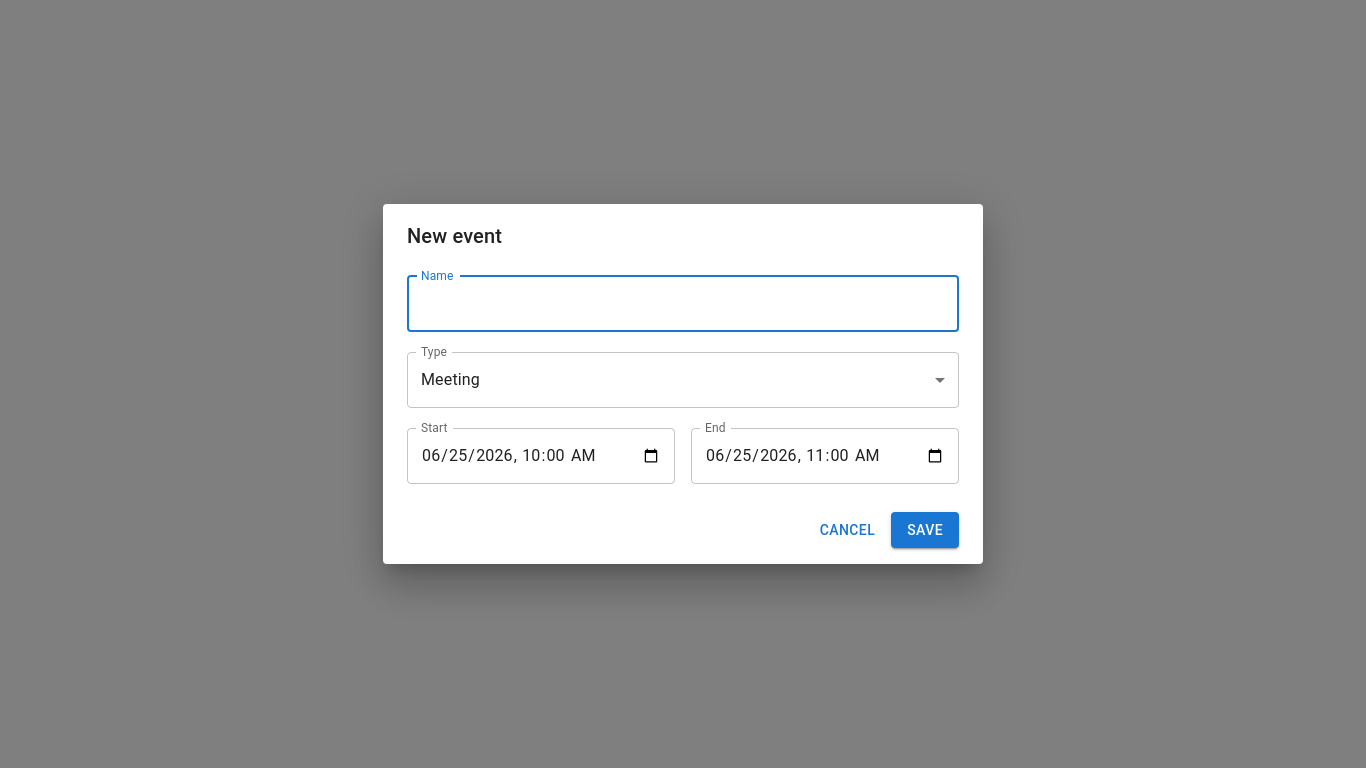
Test case: EventDialog › shows what is wrong instead of saving
Replace the text in the field labelled "End" with "2026-06-25T09:00" at coordinates (825, 456), box [691, 428, 959, 484]
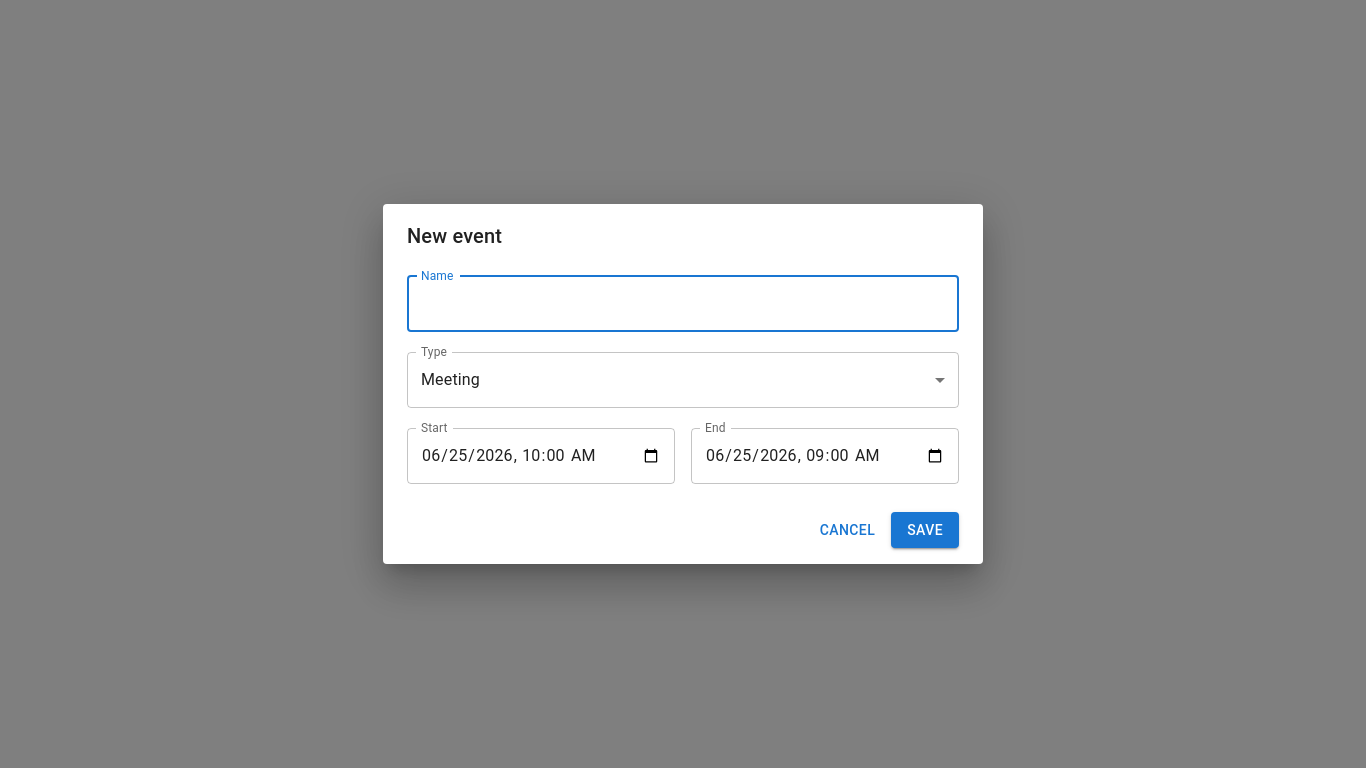
Click the button "Save".
click(925, 530)  # box [891, 512, 959, 548]
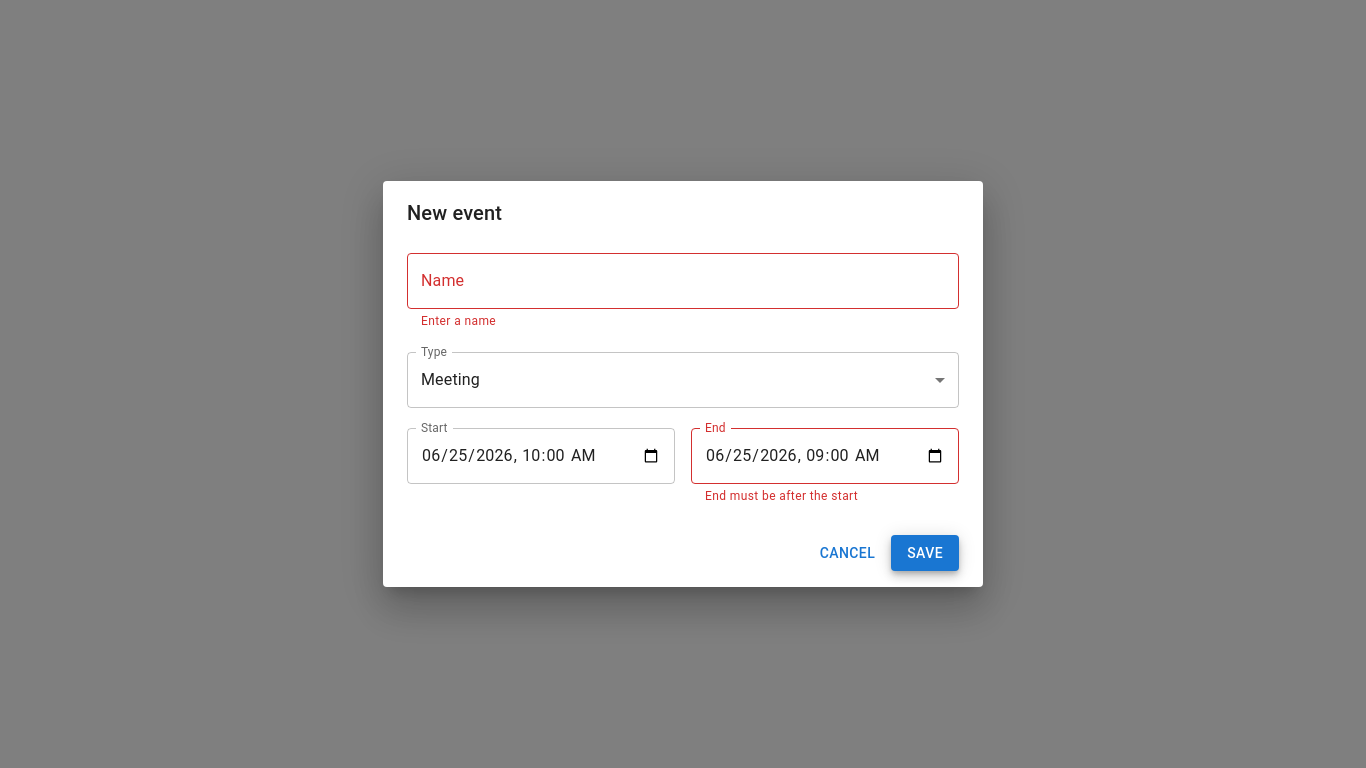
expect the text "Enter a name" is shown: met, box [421, 314, 496, 328]
expect the text "End must be after the start" is shown: met, box [705, 489, 858, 503]
